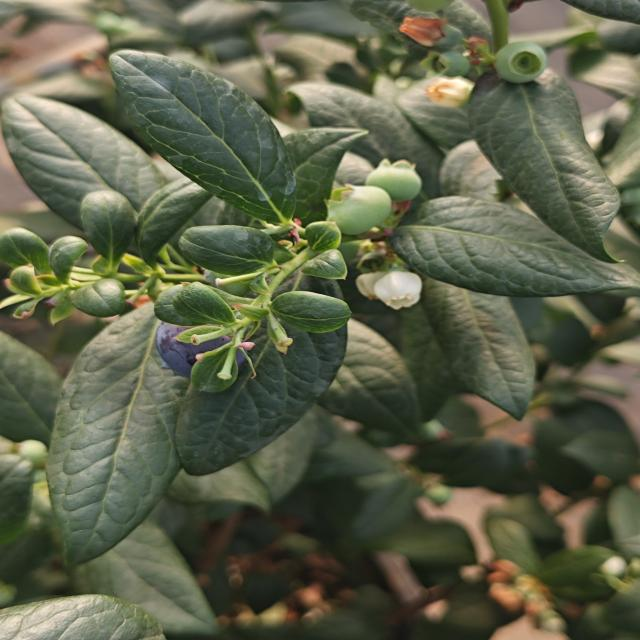ripe: (150, 316, 250, 390)
